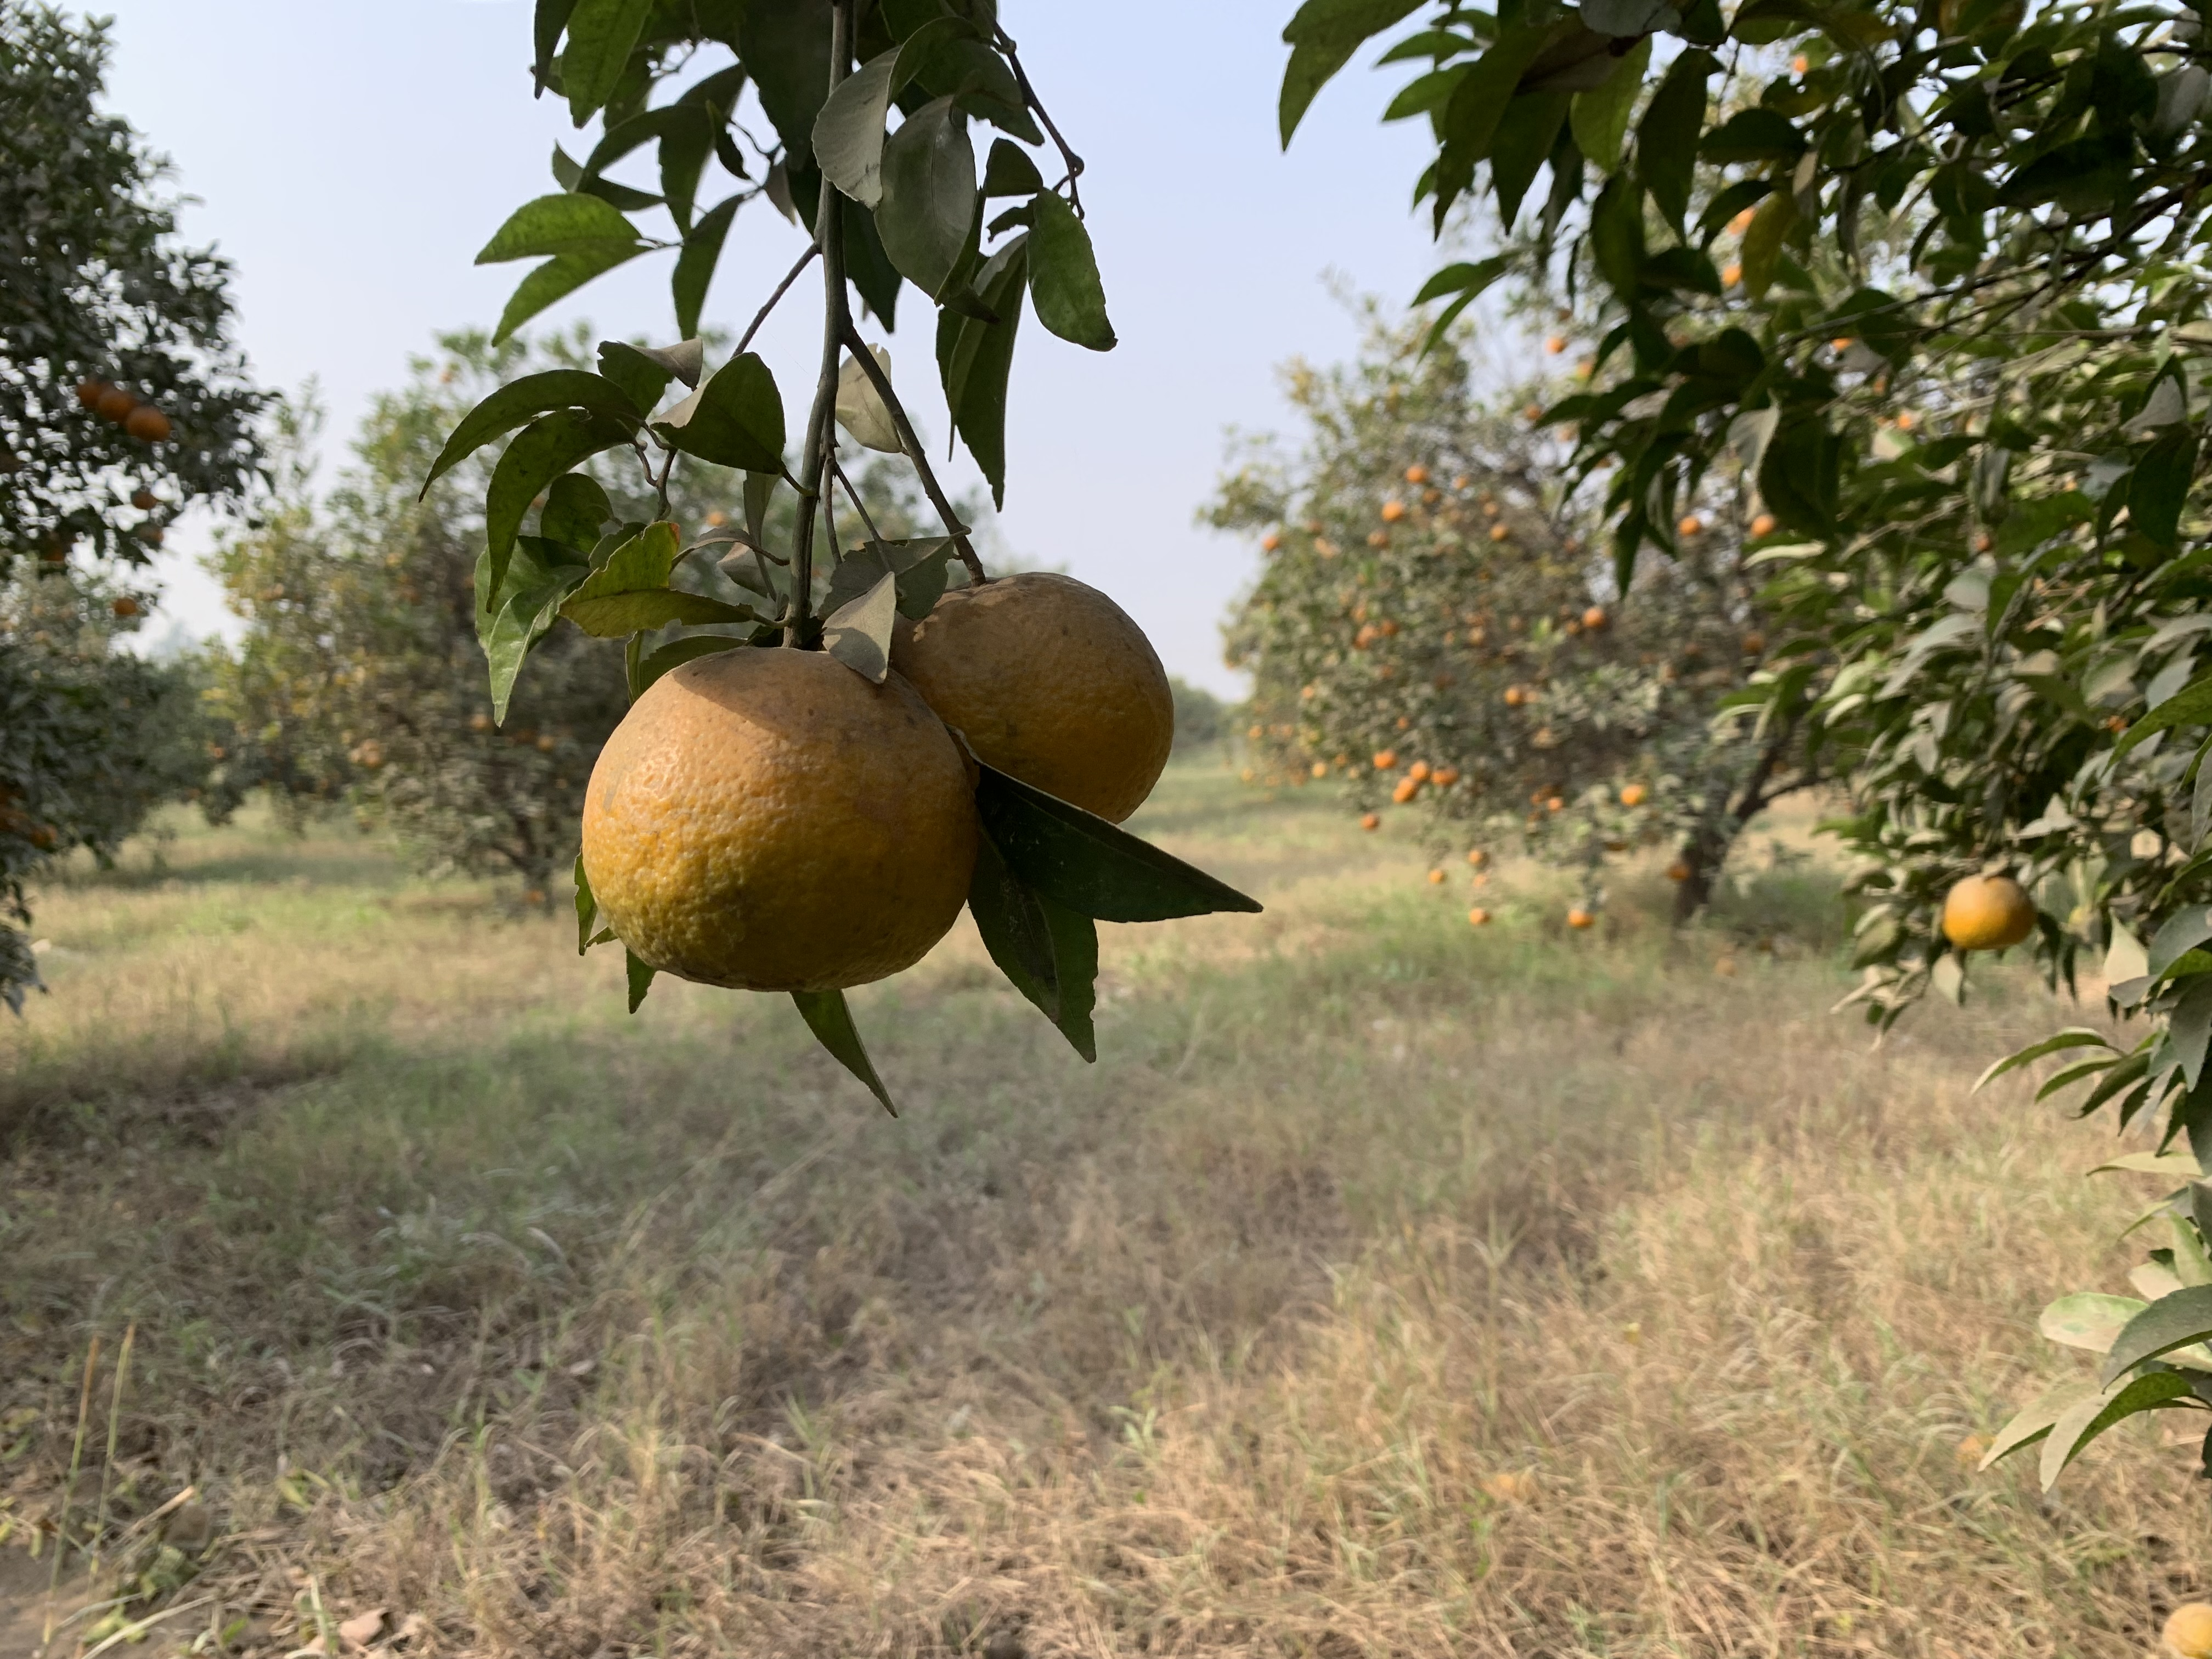orange: (582, 645, 982, 993), (892, 575, 1174, 823), (1942, 873, 2040, 953), (2161, 1600, 2212, 1659)
